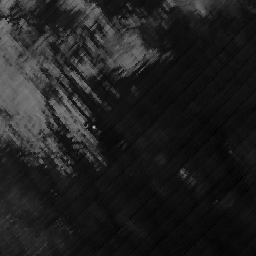Target: (90, 123, 96, 130)
